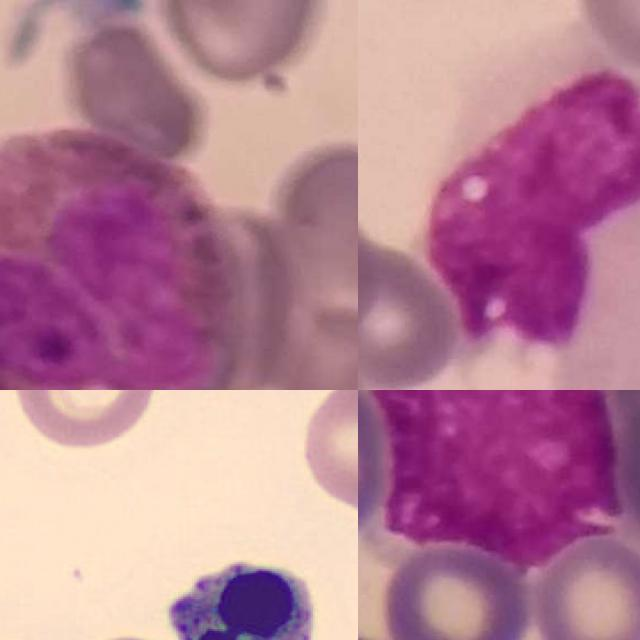Eosinophil: (0, 123, 235, 390)
Monocyte: (432, 36, 640, 390), (358, 390, 631, 570)
Neutrophil: (154, 544, 325, 640)
RBC: (5, 390, 167, 454), (293, 390, 358, 516)
